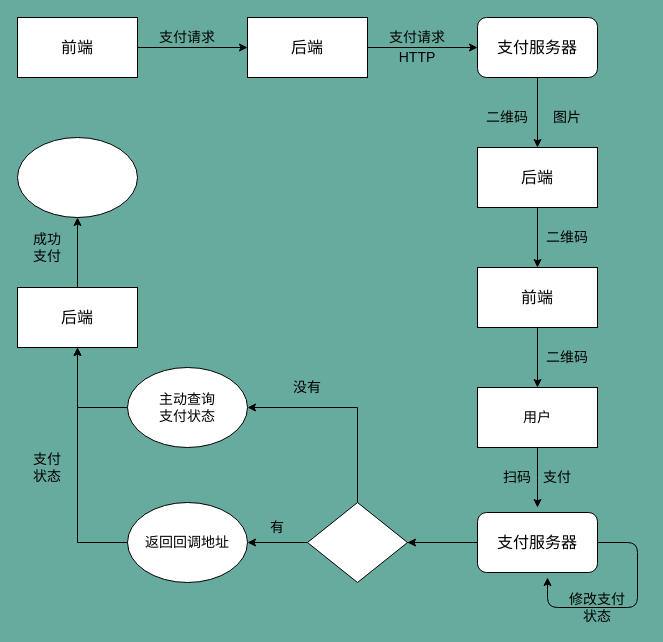
This 663x642 diagram has some shape labels left out. The centre of each missing label's shape, as x and y in pixels:
"修改支付表 和订单表的 支付状态" goes at [77,177].
"回调机制？" goes at [357,542].
